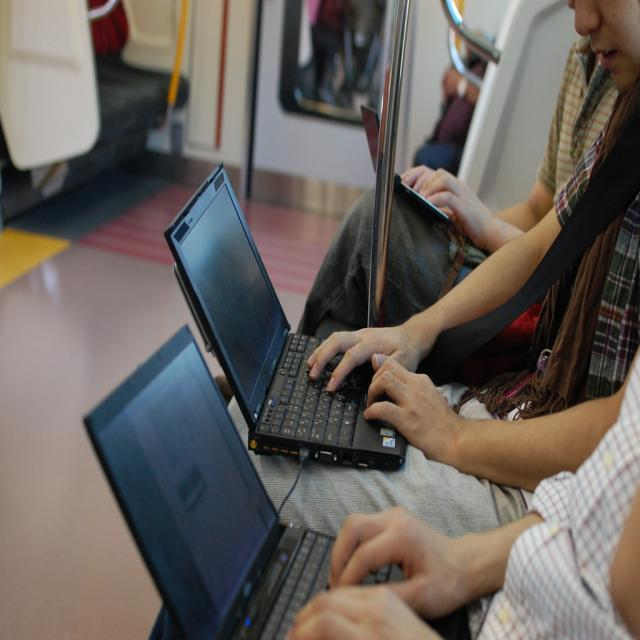Laptop: (82, 326, 400, 640), (162, 163, 406, 467)
